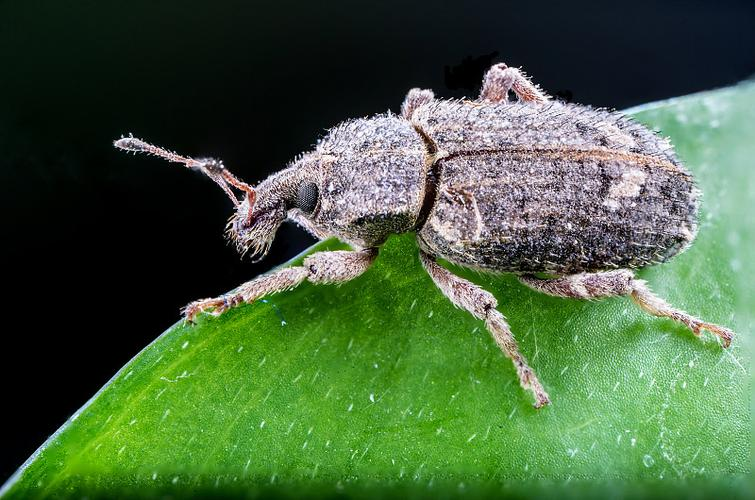Curculionidae: (112, 61, 736, 410)
